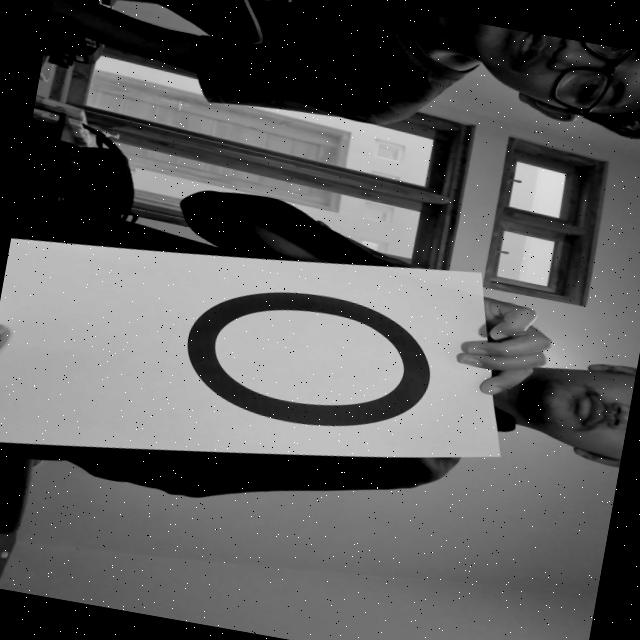o: (128, 248, 479, 476)
